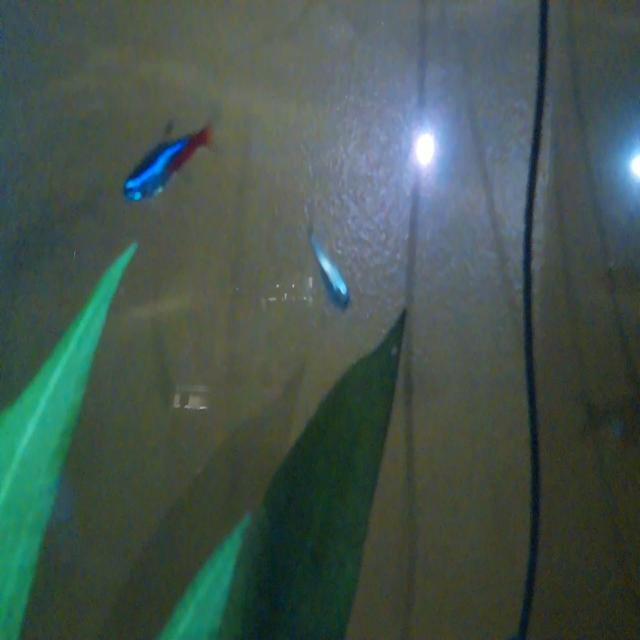fish: (118, 117, 221, 219), (296, 203, 358, 322)
